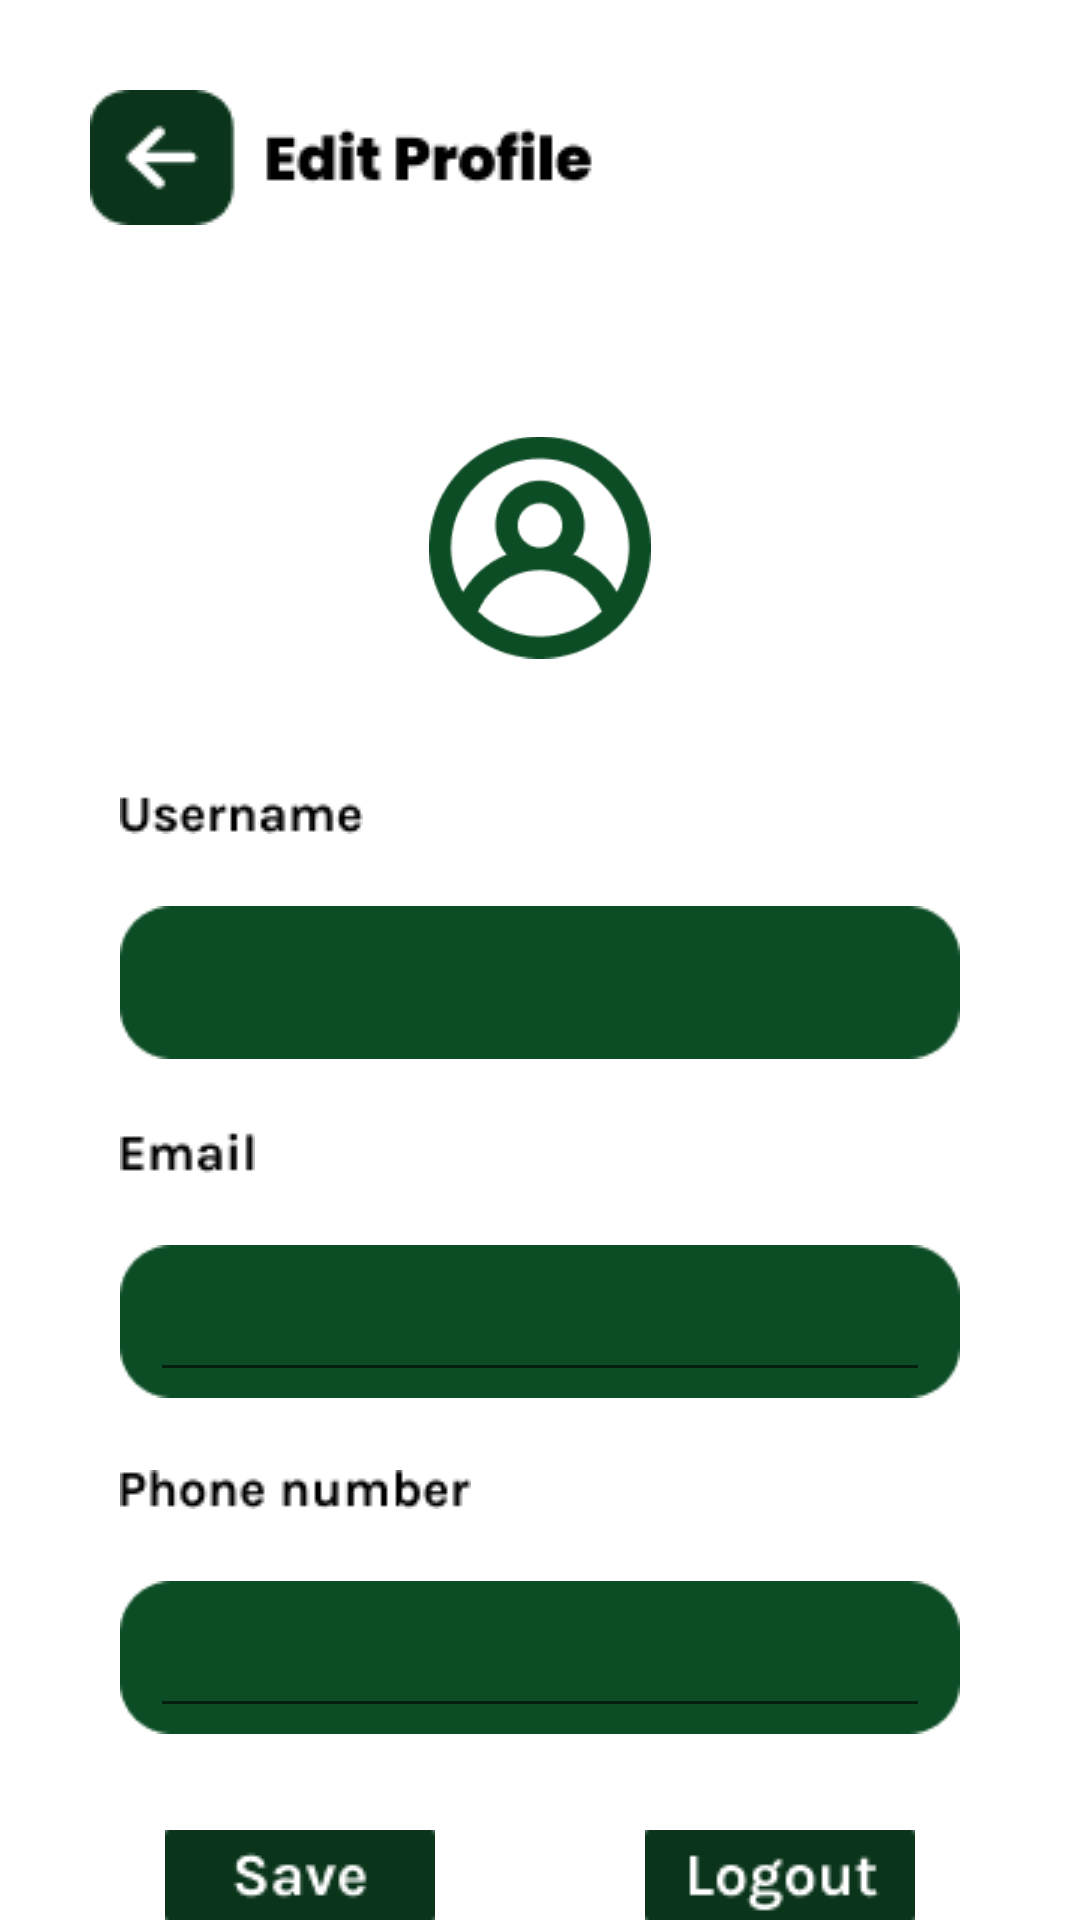

Where icons sit on this 1080 x 1920 app screen, as [x1,y1,x2,y2]:
bigprofileicon: [429,437,651,659]
